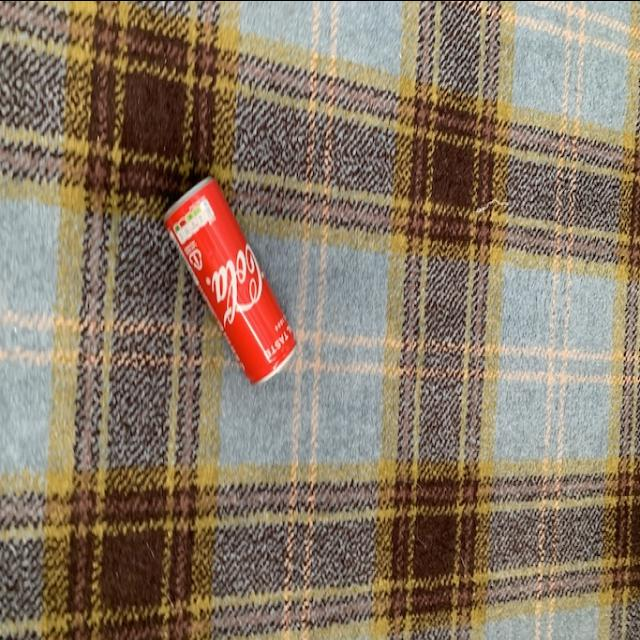litter: (160, 170, 300, 386)
